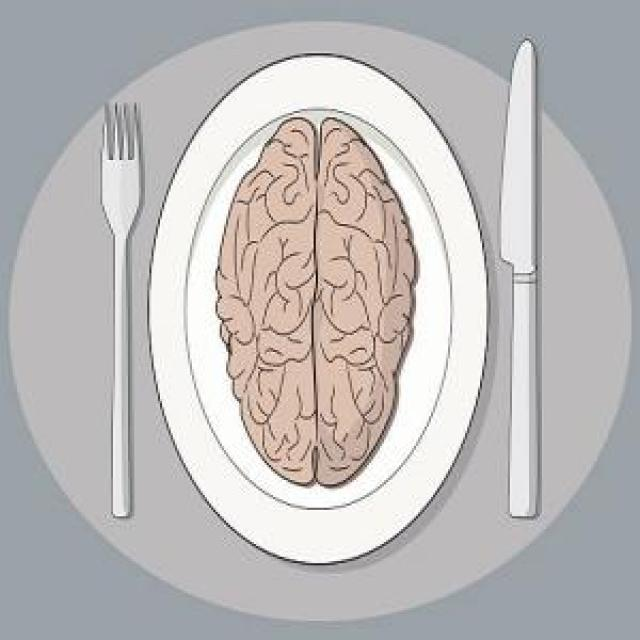knife: (499, 39, 541, 532)
